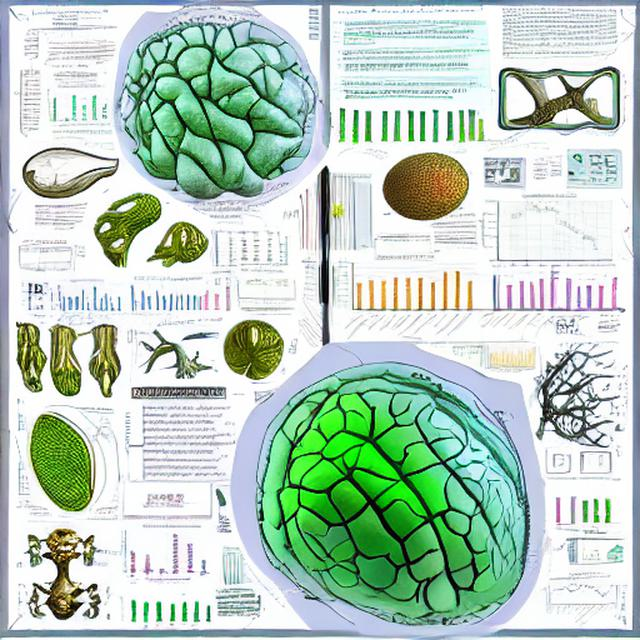Graph: (332, 253, 478, 340), (478, 190, 618, 273), (110, 523, 214, 583), (541, 576, 614, 624), (50, 278, 124, 323), (40, 84, 110, 127), (231, 269, 294, 304), (479, 340, 538, 373)
